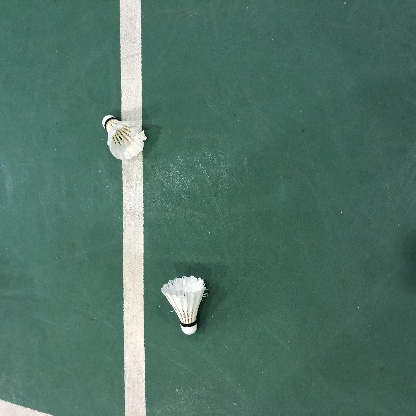ball_single: (161, 275, 206, 335), (102, 115, 147, 161)
